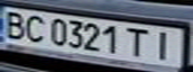0: (45, 16, 69, 47)
1: (100, 22, 124, 55)
2: (81, 20, 103, 53)
3: (66, 18, 84, 51)
B: (0, 8, 30, 39)
C: (21, 12, 48, 44)
I: (148, 28, 181, 61)
T: (124, 25, 154, 58)
